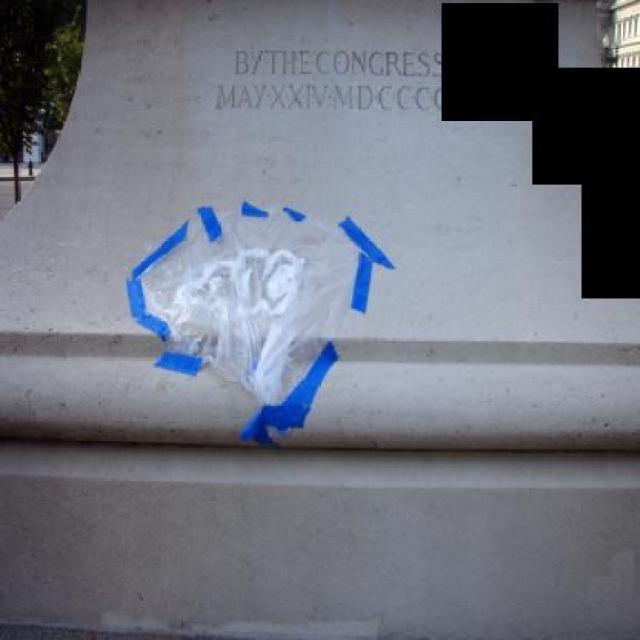plastic bag: (123, 197, 362, 441)
